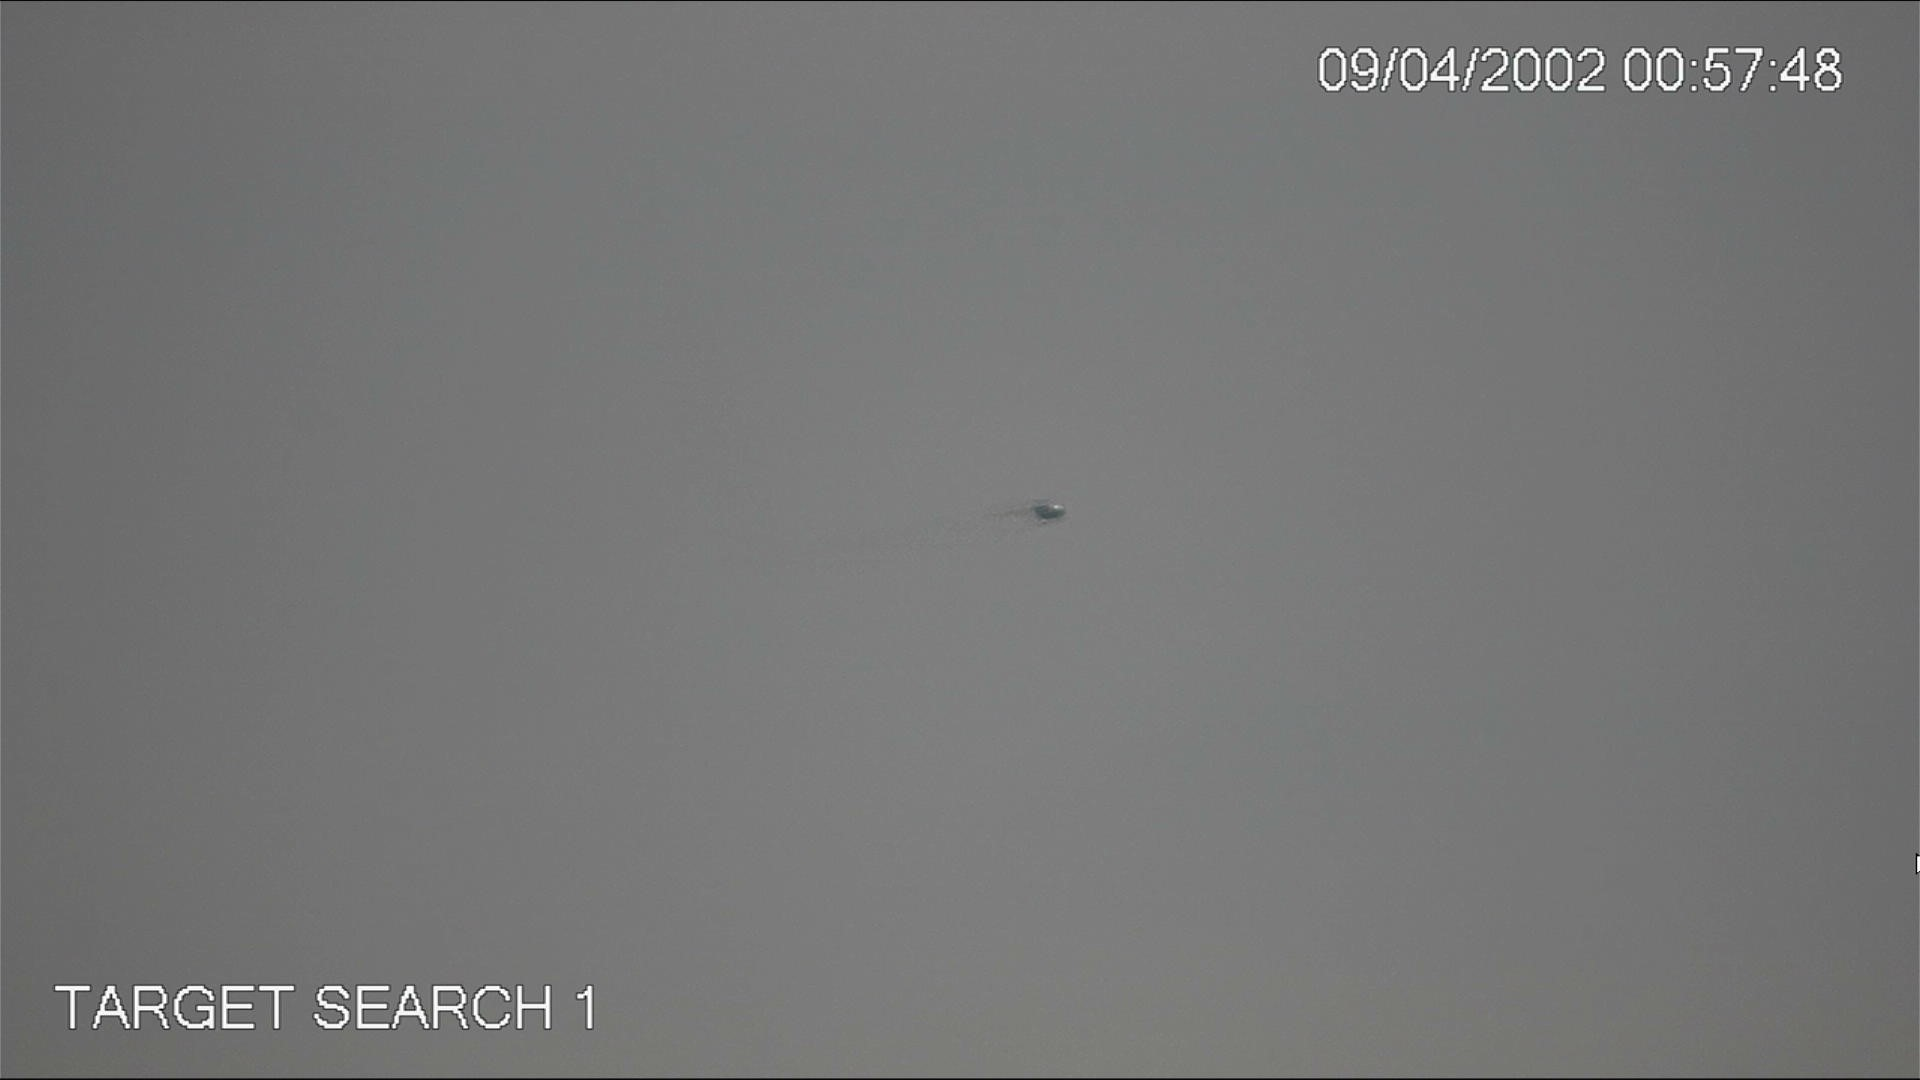SU_30: (998, 495, 1065, 520)
